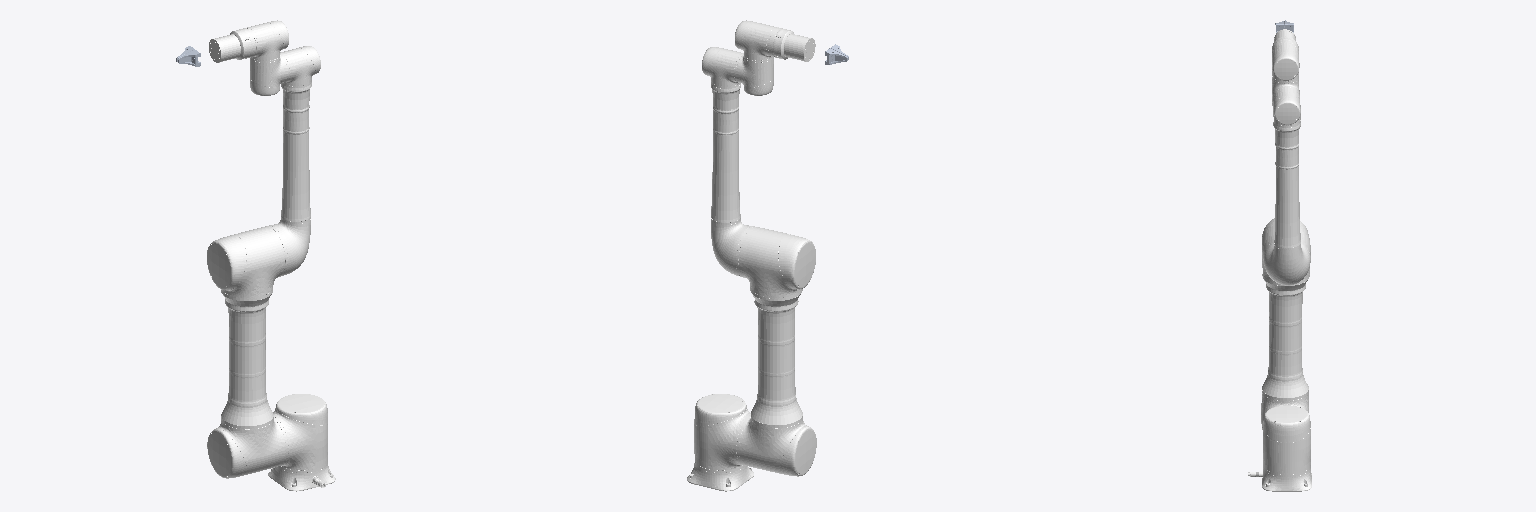
URDF robot description (dualarm):
<?xml version="1.0" encoding="utf-8"?>
<!-- This URDF was automatically created by SolidWorks to URDF Exporter! Originally created by Stephen Brawner (brawner@gmail.com) 
     Commit Version: 1.6.0-4-g7f85cfe  Build Version: 1.6.7995.38578
     For more information, please see http://wiki.ros.org/sw_urdf_exporter -->
<robot
  name="dualarm">
  <link
    name="base_link">
    <inertial>
      <origin
        xyz="-0.129005725929568 -0.184670396574784 0.51258205496432"
        rpy="0 0 0" />
      <mass
        value="26.3002175823176" />
      <inertia
        ixx="3.67871877357829"
        ixy="-0.00523912103071409"
        ixz="0.0541395655093394"
        iyy="3.84844749755078"
        iyz="-0.00401159194401568"
        izz="0.22959120436109" />
    </inertial>
    <visual>
      <origin
        xyz="0 0 0"
        rpy="0 0 0" />
      <geometry>
        <mesh
          filename="package://dualarm/meshes/base_link.STL" />
      </geometry>
      <material
        name="">
        <color
          rgba="1 1 1 1" />
      </material>
    </visual>
    <collision>
      <origin
        xyz="0 0 0"
        rpy="0 0 0" />
      <geometry>
        <mesh
          filename="package://dualarm/meshes/base_link.STL" />
      </geometry>
    </collision>
  </link>
  <link
    name="link1">
    <inertial>
      <origin
        xyz="-0.51258205496432 -0.122492444132962 -0.00168989156289856"
        rpy="0 0 0" />
      <mass
        value="26.3002175823176" />
      <inertia
        ixx="0.22959120436109"
        ixy="-0.053983742712942"
        ixz="-0.00573942036866138"
        iyy="3.67855742499984"
        iyz="-0.00019200904979072"
        izz="3.84860884612923" />
    </inertial>
    <visual>
      <origin
        xyz="0 0 0"
        rpy="0 0 0" />
      <geometry>
        <mesh
          filename="package://dualarm/meshes/link1.STL" />
      </geometry>
      <material
        name="">
        <color
          rgba="1 1 1 1" />
      </material>
    </visual>
    <collision>
      <origin
        xyz="0 0 0"
        rpy="0 0 0" />
      <geometry>
        <mesh
          filename="package://dualarm/meshes/link1.STL" />
      </geometry>
    </collision>
  </link>
  <joint
    name="joint1"
    type="continuous">
    <origin
      xyz="-0.0065218 -0.18245 0"
      rpy="1.5388 1.5708 0" />
    <parent
      link="base_link" />
    <child
      link="link1" />
    <axis
      xyz="-1 0 0" />
    <limit
      lower="-6"
      upper="6"
      effort="100"
      velocity="1" />
  </joint>
  <link
    name="link2">
    <inertial>
      <origin
        xyz="-0.0785422204115868 -0.402930270170193 -0.000556365836297479"
        rpy="0 0 0" />
      <mass
        value="26.3002175823176" />
      <inertia
        ixx="3.67855742499984"
        ixy="-0.053983974256305"
        ixz="-0.000108941576106643"
        iyy="0.229639685878469"
        iyz="-0.0144358602931894"
        izz="3.84856036461185" />
    </inertial>
    <visual>
      <origin
        xyz="0 0 0"
        rpy="0 0 0" />
      <geometry>
        <mesh
          filename="package://dualarm/meshes/link2.STL" />
      </geometry>
      <material
        name="">
        <color
          rgba="1 1 1 1" />
      </material>
    </visual>
    <collision>
      <origin
        xyz="0 0 0"
        rpy="0 0 0" />
      <geometry>
        <mesh
          filename="package://dualarm/meshes/link2.STL" />
      </geometry>
    </collision>
  </link>
  <joint
    name="joint2"
    type="continuous">
    <origin
      xyz="-0.10965 -0.04395 0"
      rpy="3.136 0 1.5708" />
    <parent
      link="link1" />
    <child
      link="link2" />
    <axis
      xyz="-1 0 0" />
    <limit
      lower="-6"
      upper="6"
      effort="100"
      velocity="1" />
  </joint>
  <link
    name="link3">
    <inertial>
      <origin
        xyz="0.0785422204115867 -0.192052458758287 -0.00263509861623276"
        rpy="0 0 0" />
      <mass
        value="26.3002175823176" />
      <inertia
        ixx="3.67855742499984"
        ixy="-0.0539819914822748"
        ixz="-0.000475331862830296"
        iyy="0.229751134880632"
        iyz="-0.0247327058786172"
        izz="3.84844891560969" />
    </inertial>
    <visual>
      <origin
        xyz="0 0 0"
        rpy="0 0 0" />
      <geometry>
        <mesh
          filename="package://dualarm/meshes/link3.STL" />
      </geometry>
      <material
        name="">
        <color
          rgba="1 1 1 1" />
      </material>
    </visual>
    <collision>
      <origin
        xyz="0 0 0"
        rpy="0 0 0" />
      <geometry>
        <mesh
          filename="package://dualarm/meshes/link3.STL" />
      </geometry>
    </collision>
  </link>
  <joint
    name="joint3"
    type="continuous">
    <origin
      xyz="0 -0.594999999999952 0"
      rpy="-0.0108231836094345 0 3.14159265358979" />
    <parent
      link="link2" />
    <child
      link="link3" />
    <axis
      xyz="1 0 0" />
    <limit
      lower="-6"
      upper="6"
      effort="100"
      velocity="1" />
  </joint>
  <link
    name="link4">
    <inertial>
      <origin
        xyz="-0.766355933022853 0.0755962114188302 -0.00127228523496972"
        rpy="0 0 0" />
      <mass
        value="26.3002175823176" />
      <inertia
        ixx="0.229593004064364"
        ixy="-0.0539837133608198"
        ixz="0.00628124994162189"
        iyy="3.67855742499984"
        iyz="0.00020009135211356"
        izz="3.84860704642596" />
    </inertial>
    <visual>
      <origin
        xyz="0 0 0"
        rpy="0 0 0" />
      <geometry>
        <mesh
          filename="package://dualarm/meshes/link4.STL" />
      </geometry>
      <material
        name="">
        <color
          rgba="1 1 1 1" />
      </material>
    </visual>
    <collision>
      <origin
        xyz="0 0 0"
        rpy="0 0 0" />
      <geometry>
        <mesh
          filename="package://dualarm/meshes/link4.STL" />
      </geometry>
    </collision>
  </link>
  <joint
    name="joint4"
    type="continuous">
    <origin
      xyz="0.0029460089927562 0.574299999999998 0"
      rpy="3.14159265358979 -0.00509865451899513 1.5707963267949" />
    <parent
      link="link3" />
    <child
      link="link4" />
    <axis
      xyz="0 1 0" />
    <limit
      lower="-6"
      upper="6"
      effort="100"
      velocity="1" />
  </joint>
  <link
    name="link5">
    <inertial>
      <origin
        xyz="0.132940965902691 0.077038534820469 -7.48244870979464E-07"
        rpy="0 0 0" />
      <mass
        value="0.250529604832804" />
      <inertia
        ixx="0.000147706766103638"
        ixy="7.83928372298396E-20"
        ixz="-3.86458782184775E-20"
        iyy="9.17998386031011E-05"
        iyz="1.62109132077211E-09"
        izz="9.18814797461867E-05" />
    </inertial>
    <visual>
      <origin
        xyz="0 0 0"
        rpy="0 0 0" />
      <geometry>
        <mesh
          filename="package://dualarm/meshes/link5.STL" />
      </geometry>
      <material
        name="">
        <color
          rgba="1 1 1 1" />
      </material>
    </visual>
    <collision>
      <origin
        xyz="0 0 0"
        rpy="0 0 0" />
      <geometry>
        <mesh
          filename="package://dualarm/meshes/link5.STL" />
      </geometry>
    </collision>
  </link>
  <joint
    name="joint5"
    type="continuous">
    <origin
      xyz="0.0290592307671516 0.0769037672858438 0"
      rpy="-3.14159265358979 0.0169257666086247 1.5707963267949" />
    <parent
      link="link4" />
    <child
      link="link5" />
    <axis
      xyz="0 1 0" />
    <limit
      lower="-6"
      upper="6"
      effort="100"
      velocity="1" />
  </joint>
  <link
    name="link6">
    <inertial>
      <origin
        xyz="-0.0370017754368165 0.0252022998147514 -0.000164888510944233"
        rpy="0 0 0" />
      <mass
        value="0.136132934660164" />
      <inertia
        ixx="8.92887694531639E-05"
        ixy="-2.96183646362377E-06"
        ixz="-2.18448541752676E-08"
        iyy="8.28440577765062E-05"
        iyz="-8.66732105135689E-09"
        izz="3.54803368100766E-05" />
    </inertial>
    <visual>
      <origin
        xyz="0 0 0"
        rpy="0 0 0" />
      <geometry>
        <mesh
          filename="package://dualarm/meshes/link6.STL" />
      </geometry>
      <material
        name="">
        <color
          rgba="0.807843137254902 0.843137254901961 0.905882352941176 1" />
      </material>
    </visual>
    <collision>
      <origin
        xyz="0 0 0"
        rpy="0 0 0" />
      <geometry>
        <mesh
          filename="package://dualarm/meshes/link6.STL" />
      </geometry>
    </collision>
  </link>
  <joint
    name="joint6"
    type="continuous">
    <origin
      xyz="0.160979601048544 0.0770407692328487 0"
      rpy="-3.13500084326082 0 3.1415901196294" />
    <parent
      link="link5" />
    <child
      link="link6" />
    <axis
      xyz="0.99999999999679 0 0" />
  </joint>
  <link
    name="gripper_left">
    <inertial>
      <origin
        xyz="-0.097255 -0.0098559 0.011772"
        rpy="0 0 0" />
      <mass
        value="0.023424" />
      <inertia
        ixx="4.9615E-06"
        ixy="3.0934E-10"
        ixz="-1.315E-06"
        iyy="6.2677E-06"
        iyz="-1.7097E-10"
        izz="7.8716E-06" />
    </inertial>
    <visual>
      <origin
        xyz="0 0 0"
        rpy="0 0 0" />
      <geometry>
        <mesh
          filename="package://dualarm/meshes/gripper_left.STL" />
      </geometry>
      <material
        name="">
        <color
          rgba="0.80784 0.84314 0.90588 1" />
      </material>
    </visual>
    <collision>
      <origin
        xyz="0 0 0"
        rpy="0 0 0" />
      <geometry>
        <mesh
          filename="package://dualarm/meshes/gripper_left.STL" />
      </geometry>
    </collision>
  </link>
  <joint
    name="gripper_left_joint"
    type="prismatic">
    <origin
      xyz="0.0085252 0.010305 -0.00019018"
      rpy="0 0 0" />
    <parent
      link="link6" />
    <child
      link="gripper_left" />
    <axis
      xyz="0 0 1" />
    <limit
      lower="0"
      upper="0.05"
      effort="5"
      velocity="12" />
  </joint>
  <link
    name="gripper_right">
    <inertial>
      <origin
        xyz="-0.09873 -0.00045117 0.010552"
        rpy="0 0 0" />
      <mass
        value="0.023424" />
      <inertia
        ixx="4.9615E-06"
        ixy="3.0338E-10"
        ixz="-1.315E-06"
        iyy="6.2677E-06"
        iyz="-1.7752E-10"
        izz="7.8716E-06" />
    </inertial>
    <visual>
      <origin
        xyz="0 0 0"
        rpy="0 0 0" />
      <geometry>
        <mesh
          filename="package://dualarm/meshes/gripper_right.STL" />
      </geometry>
      <material
        name="">
        <color
          rgba="0.80784 0.84314 0.90588 1" />
      </material>
    </visual>
    <collision>
      <origin
        xyz="0 0 0"
        rpy="0 0 0" />
      <geometry>
        <mesh
          filename="package://dualarm/meshes/gripper_right.STL" />
      </geometry>
    </collision>
  </link>
  <joint
    name="gripper_right_joint"
    type="prismatic">
    <origin
      xyz="0.01 0 0"
      rpy="3.1416 0 0" />
    <parent
      link="link6" />
    <child
      link="gripper_right" />
    <axis
      xyz="0 0 1" />
    <limit
      lower="0"
      upper="0.05"
      effort="5"
      velocity="12" />
  </joint>
</robot>

--- Render facts (derived) ---
3 views of the same robot in one strip: view 1: azimuth 30°, elevation 25°; view 2: azimuth 150°, elevation 25°; view 3: azimuth 270°, elevation 25° (orthographic).
Robot: dualarm — 9 links, 8 joints (6 continuous, 2 prismatic); root link base_link; default pose: every joint at zero.
Visible links, largest first — view 1: link2, link3, link1, link5, link4, base_link; view 2: link2, link3, link1, link5, link4, base_link; view 3: link3, link2, link1, link5, base_link.
Boxes of the visible links, x1,y1,x2,y2 form: link2: (207,226,288,478); link3: (269,46,320,275); link1: (273,394,327,472); link5: (209,20,288,62); link4: (250,55,287,95); base_link: (268,465,335,491); link2: (736,226,816,476); link3: (702,47,750,276); link1: (694,394,750,472); link5: (735,20,815,61); link4: (736,54,773,95); base_link: (687,463,753,491); link3: (1264,86,1310,285); link2: (1261,218,1310,429); link1: (1263,405,1310,476); link5: (1272,29,1299,81); base_link: (1248,468,1311,491).
Size in the robot's own frame: 0.4957 by 0.2047 by 1.46 metres.
Meshes: 9 distinct files referenced, 8 mesh visuals loaded (8 binary STL); not drawn: 1 (reference not matched to a file when rendering).
